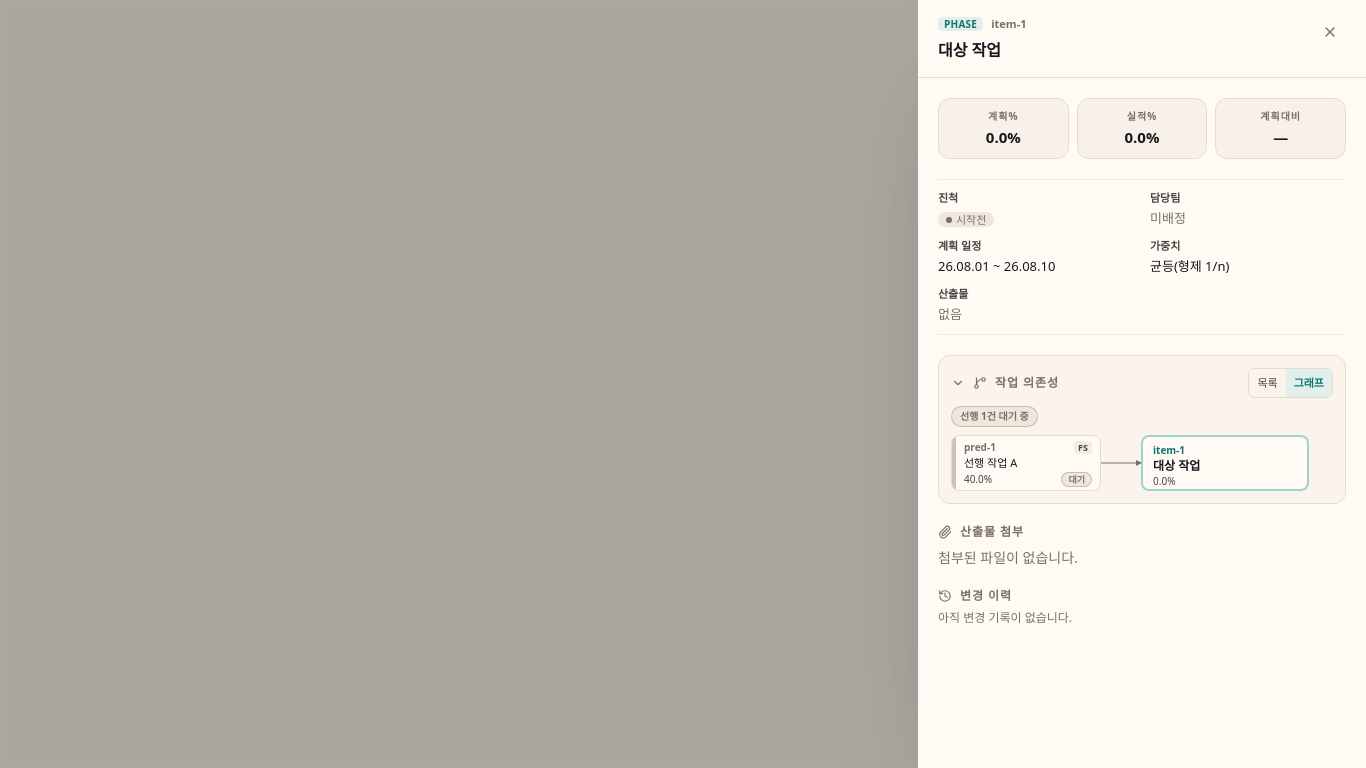
Test: RowDetailPanel — 선행/후속 섹션 › 선행 FS 가 미완료면 "선행 1건 대기 중" 배너와 그 선행 행에 "대기" 배지가 뜬다
Click the button "목록": (1268, 383) [1249,369,1286,397]
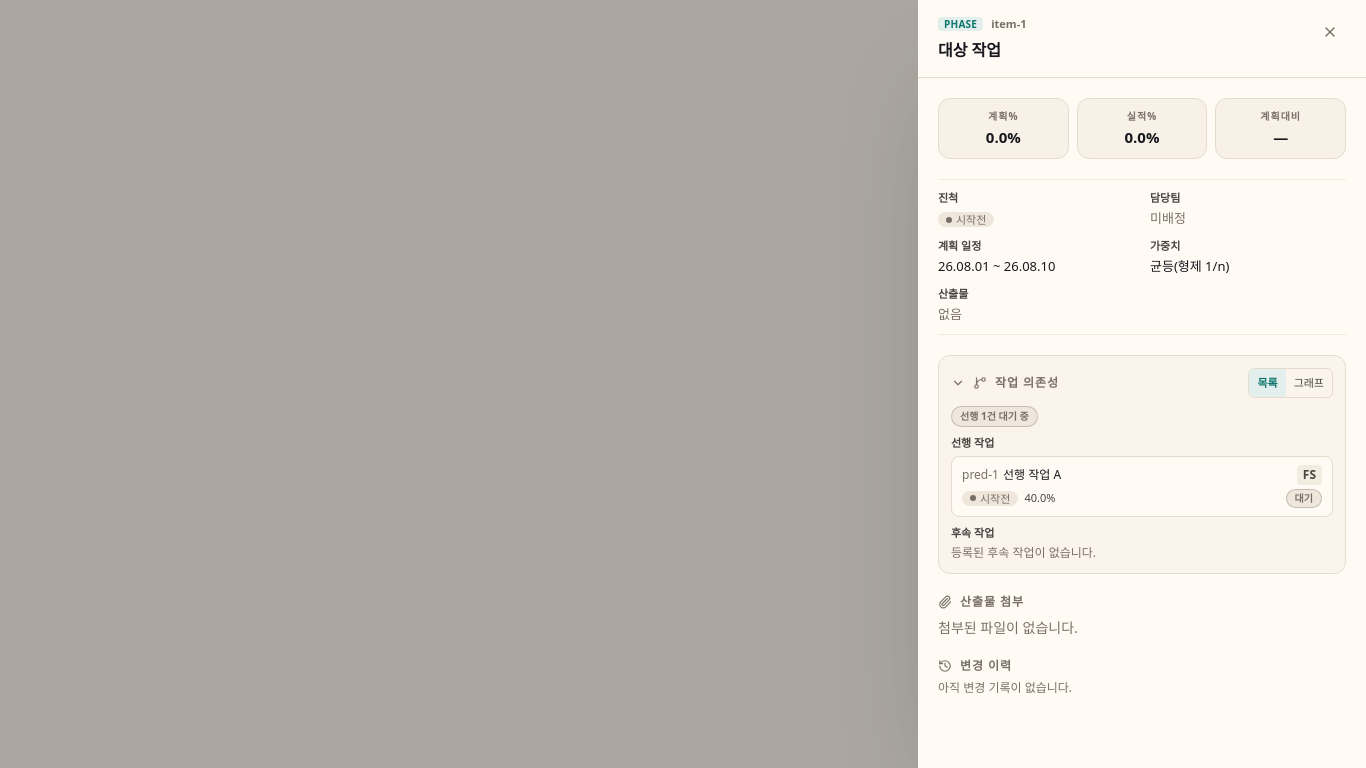
Expected: the text "선행 1건 대기 중" is shown, [951,406,1038,427]
Now the list item "pred-1선행 작업 A FS 시작전 40.0% 대기" is shown, box [951,456,1333,517]
